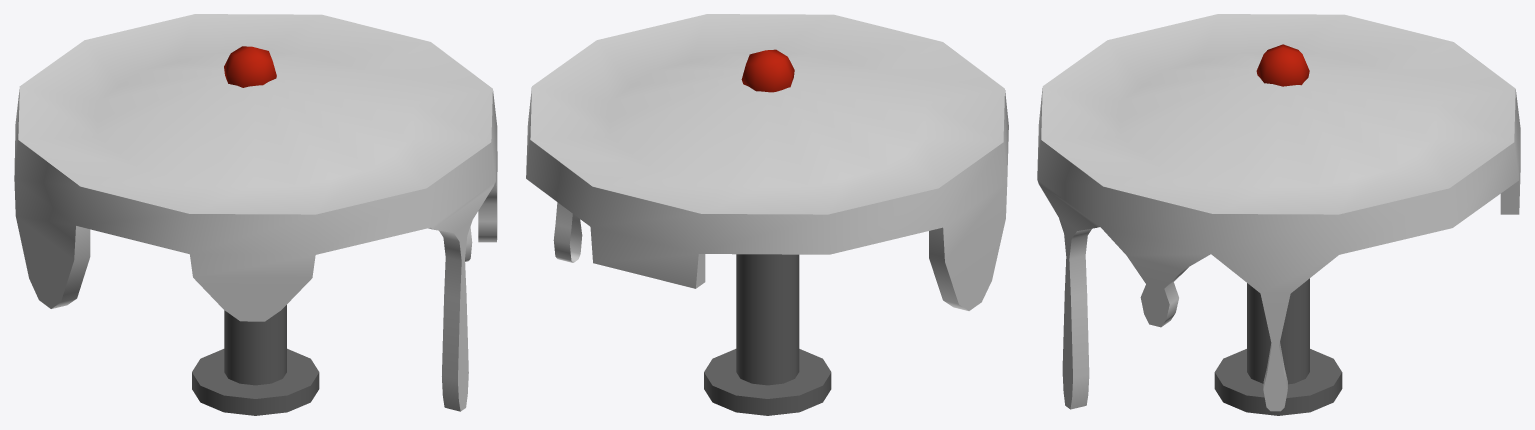
Rendered from IceCreamTable2_RC02.fbx.
3 renders of one model, left to right at view 1: azimuth 30°, elevation 25°; view 2: azimuth 150°, elevation 25°; view 3: azimuth 270°, elevation 25°, orthographic.
Visible parts, largest first — view 1: IceCream_Table2; view 2: IceCream_Table2; view 3: IceCream_Table2.
Part boxes in pixels (x1,y1,x2,y2): IceCream_Table2: [14, 14, 497, 415]; IceCream_Table2: [526, 14, 1008, 415]; IceCream_Table2: [1037, 14, 1520, 415].
Bounding box in the file's own units: 1.61 × 1.25 × 1.6.
